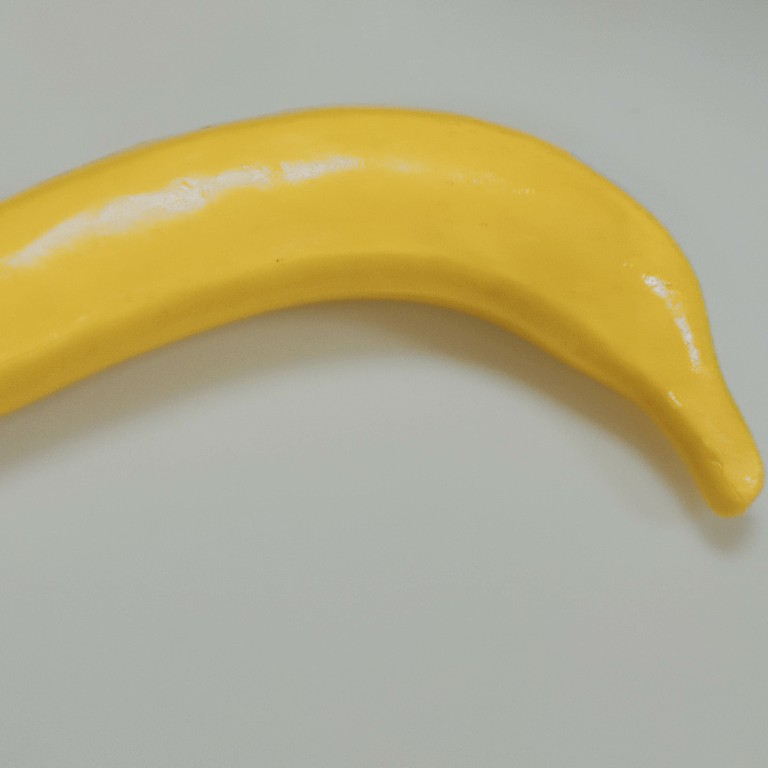fruit_banana: (1, 100, 765, 524)
